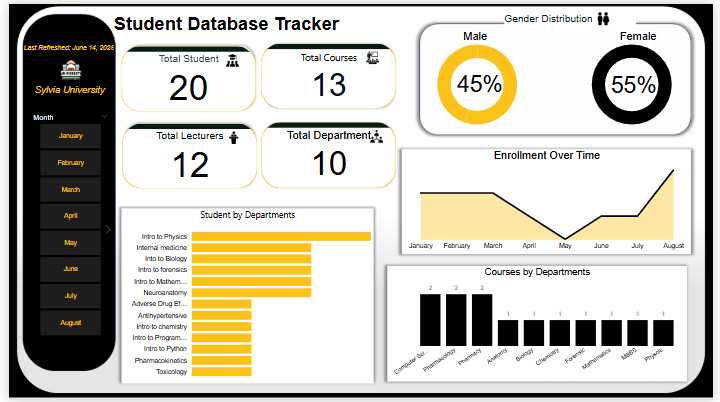

Layout of this report page (visuals, bound fields, positions):
{"tool":"powerbi","page":{"name":"Page 1","canvas":[1280,720],"ordinal":0},"visuals":[{"type":"cardVisual","fields":{"Data":["Date_table.Total  STUDENT"]},"box":[198,71,256,129],"z":0},{"type":"cardVisual","fields":{"Data":["Date_table.Total Department"]},"box":[452,210,256,130],"z":1000},{"type":"clusteredBarChart","title":"Student by Departments","fields":{"Category":["sms courses.Course_name"],"Y":["Date_table.Total  STUDENT"]},"box":[204,372,458,318],"z":5000},{"type":"columnChart","title":"Courses by Departments","fields":{"Category":["sms department.Department_name"],"Y":["Date_table.total courses"]},"box":[687,476,544,210],"z":6000},{"type":"donutChart","fields":{"Y":["Date_table.Total  STUDENT"]},"box":[1019,50,225,192],"z":7000},{"type":"lineChart","title":"Enrollment Over Time","fields":{"Category":["Date_table.Date.Variation.Date Hierarchy.Month"],"Y":["sms enrollments.Enrollment_id"]},"box":[717,264,522,190],"z":8000},{"type":"card","fields":{"Values":["Date_table.Male %"]},"box":[784,96,144,96],"z":9000},{"type":"donutChart","fields":{"Y":["Date_table.Total  STUDENT"],"Category":["sms student.Gender"]},"box":[739,49,225,192],"z":10000},{"type":"shape","title":"Male ","box":[784,48,128,32],"z":11000},{"type":"cardVisual","fields":{"Data":["Date_table.female%"]},"box":[1072,96,128,96],"z":12000},{"type":"shape","title":"Female","box":[1072,48,144,32],"z":13000},{"type":"shape","title":"Gender Distribution","box":[899,16,240,29],"z":14000},{"type":"cardVisual","fields":{"Data":["Date_table.Total instructors"]},"box":[200,212,256,128],"z":16000},{"type":"cardVisual","fields":{"Data":["Date_table.total courses"]},"box":[453,67,256,128],"z":16001},{"type":"image","box":[1041,10,80,34],"z":16002},{"type":"shape","title":"Student Database Tracker","box":[190,16,432,48],"z":16003},{"type":"image","box":[381,85,50,33],"z":16004},{"type":"image","box":[635,82,50,33],"z":16005},{"type":"image","box":[384,225,50,33],"z":16006},{"type":"image","box":[643,224,50,33],"z":16007},{"type":"shape","title":"Sylvia University","box":[37,145,144,32],"z":16008},{"type":"image","box":[80,96,64,48],"z":16009},{"type":"slicer","fields":{"Values":["Date_table.Date.Variation.Date Hierarchy.Month"]},"box":[32,224,160,416],"z":16010},{"type":"cardVisual","fields":{"Data":["Date_table.Last Refreshed"]},"box":[10,48,199,49],"z":16011}]}

Visuals, with their boxes in screenshot pixels (x1, y1, x2, y2), scaled from the page's 1280x720 canvas onto the 720x402 screenshot:
cardVisual - Date_table.Total  STUDENT: bbox(111, 40, 255, 112)
cardVisual - Date_table.Total Department: bbox(254, 117, 398, 190)
"Student by Departments" clusteredBarChart: bbox(115, 208, 372, 385)
"Courses by Departments" columnChart: bbox(386, 266, 692, 383)
donutChart - Date_table.Total  STUDENT: bbox(573, 28, 700, 135)
"Enrollment Over Time" lineChart: bbox(403, 147, 697, 253)
card - Date_table.Male %: bbox(441, 54, 522, 107)
donutChart - Date_table.Total  STUDENT x sms student.Gender: bbox(416, 27, 542, 135)
"Male " shape: bbox(441, 27, 513, 45)
cardVisual - Date_table.female%: bbox(603, 54, 675, 107)
"Female" shape: bbox(603, 27, 684, 45)
"Gender Distribution" shape: bbox(506, 9, 641, 25)
cardVisual - Date_table.Total instructors: bbox(112, 118, 256, 190)
cardVisual - Date_table.total courses: bbox(255, 37, 399, 109)
image: bbox(586, 6, 631, 25)
"Student Database Tracker" shape: bbox(107, 9, 350, 36)
image: bbox(214, 47, 242, 66)
image: bbox(357, 46, 385, 64)
image: bbox(216, 126, 244, 144)
image: bbox(362, 125, 390, 143)
"Sylvia University" shape: bbox(21, 81, 102, 99)
image: bbox(45, 54, 81, 80)
slicer - Date_table.Date.Variation.Date Hierarchy.Month: bbox(18, 125, 108, 357)
cardVisual - Date_table.Last Refreshed: bbox(6, 27, 118, 54)
